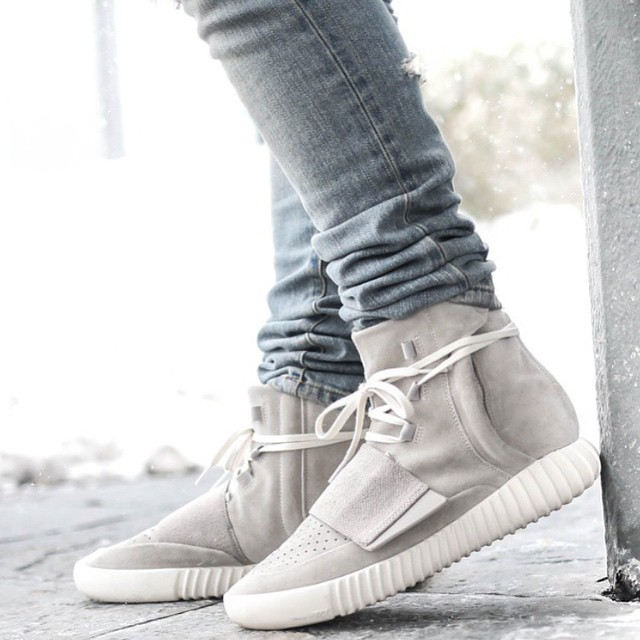sneaker: (203, 292, 632, 637), (54, 368, 381, 620)
